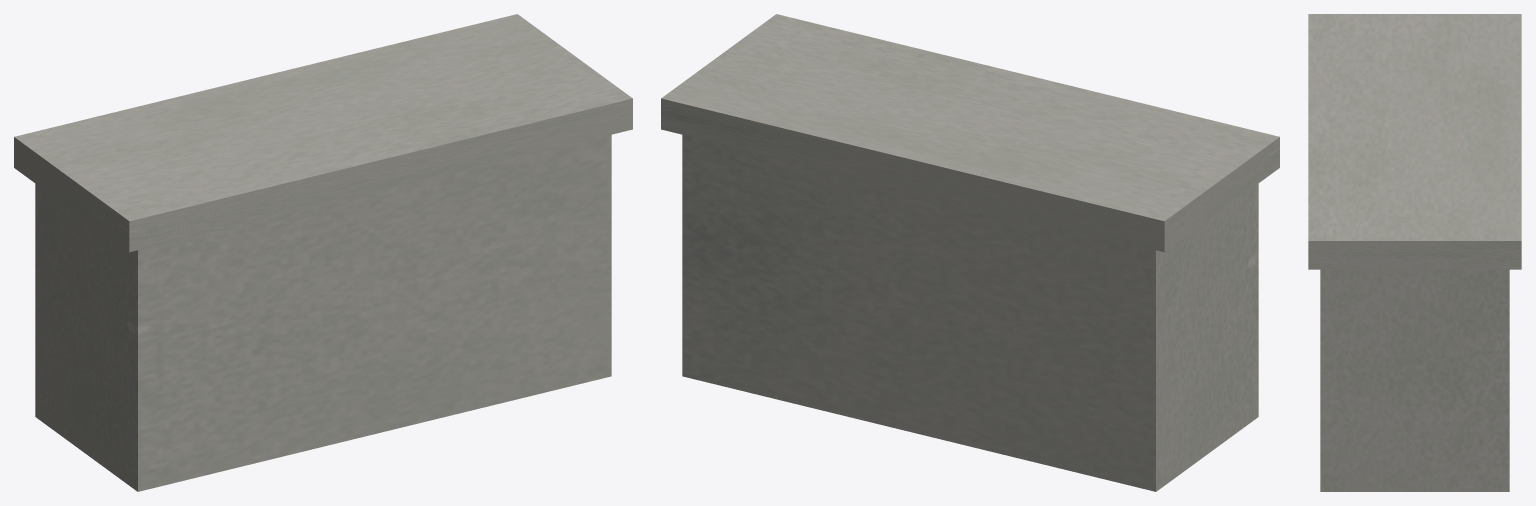
File: block.fbx
3 renders of one model, left to right at view 1: azimuth 30°, elevation 25°; view 2: azimuth 150°, elevation 25°; view 3: azimuth 270°, elevation 25°, orthographic. The views are drawn at different scales.
Visible parts, largest first — view 1: body.001, top; view 2: body.001, top; view 3: top, body.001.
Boxes of the visible parts, <box> form: body.001: <box>35,134,611,491</box>; top: <box>14,14,632,252</box>; body.001: <box>682,134,1258,491</box>; top: <box>661,14,1279,252</box>; top: <box>1308,14,1521,269</box>; body.001: <box>1320,269,1509,491</box>.
Size of the model in its own units: 340 by 180 by 135.
